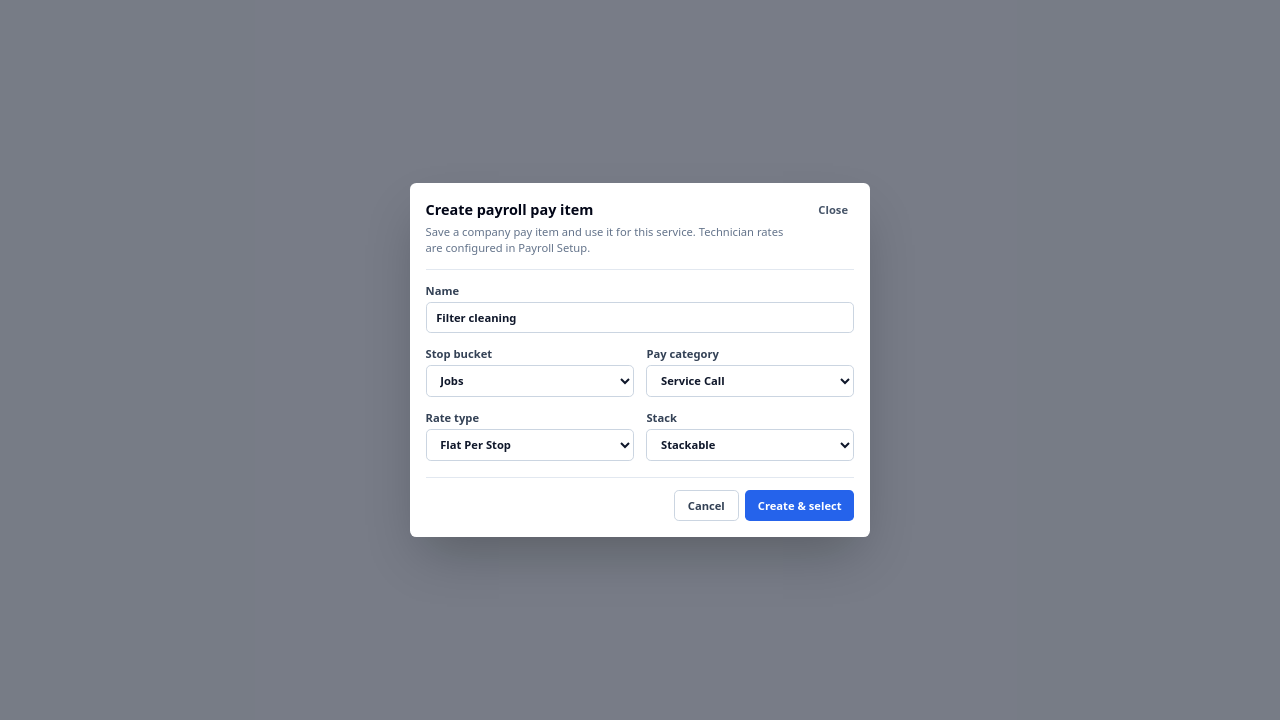
Test: duplicate active names are rejected without creating another pay item
Click the button "Create & select".
click(800, 506)  # box [745,490,854,521]
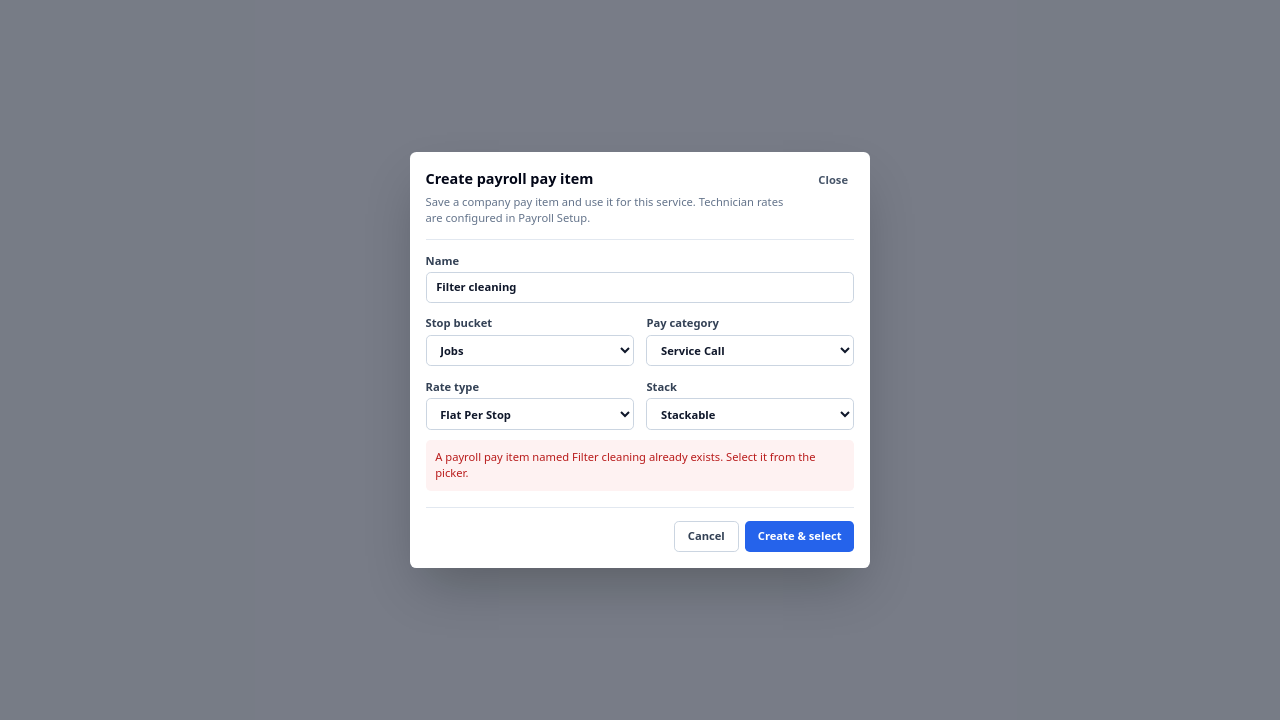
Expected: the message shows "already exists", [435,449,816,480]
